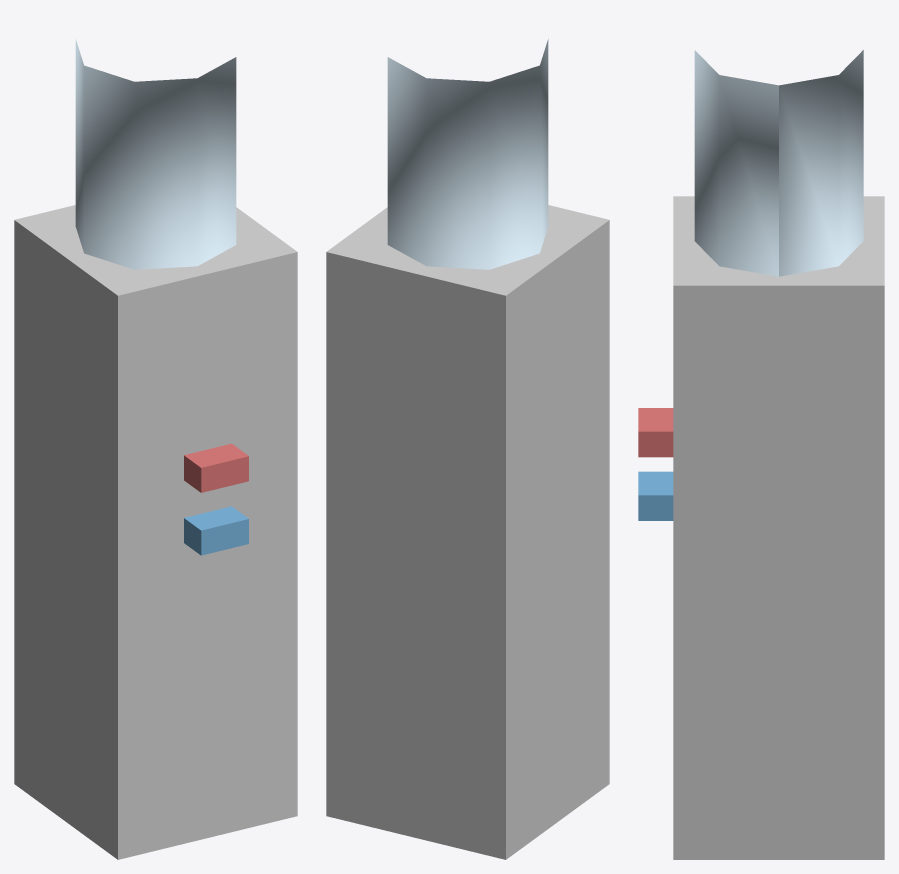
Rendered from water_server.glb.
3 views of the same model, side by side, from view 1: azimuth 30°, elevation 25°; view 2: azimuth 150°, elevation 25°; view 3: azimuth 270°, elevation 25° (orthographic).
Visible parts, largest first — view 1: body, bottle, tap_cold, tap_hot; view 2: body, bottle; view 3: body, bottle, tap_cold, tap_hot.
Part boxes in pixels (x1,y1,x2,y2): body: (14,205,297,859); bottle: (75,39,236,269); tap_cold: (184,506,248,555); tap_hot: (184,443,248,492); body: (326,205,609,859); bottle: (387,39,548,269); body: (673,196,884,859); bottle: (694,50,863,276); tap_cold: (638,471,673,520); tap_hot: (638,408,673,457).
Bounding box in the file's own units: 0.3 × 1.2 × 0.35.
